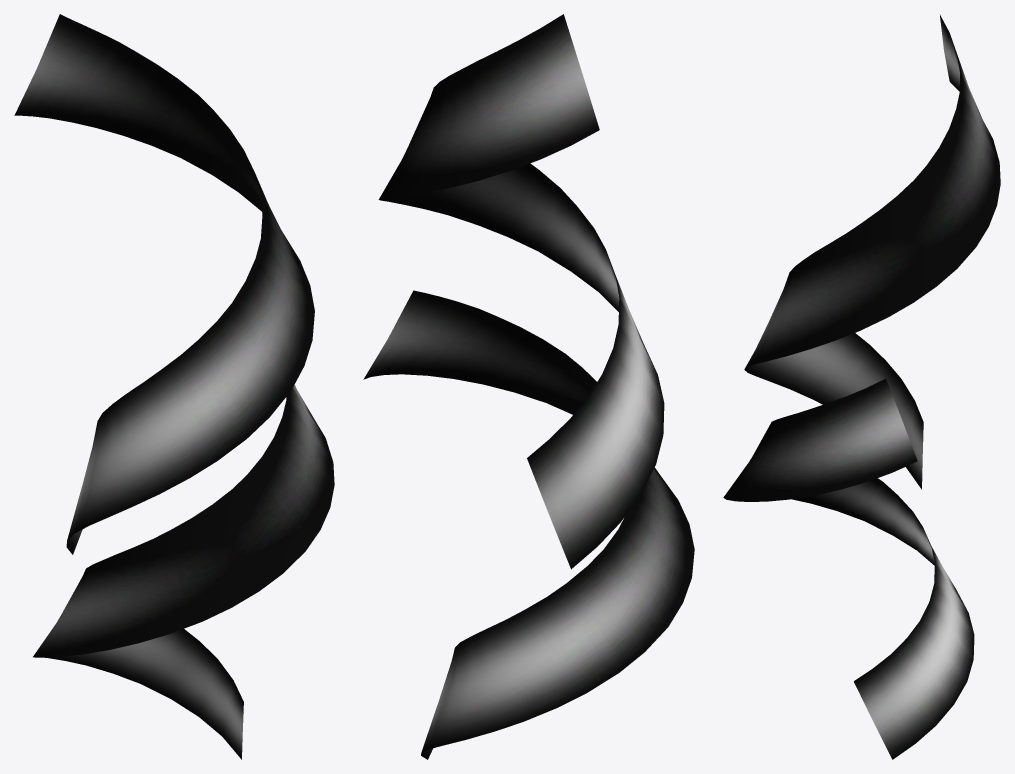
File: vfx_kurp_1035.dae
3 views of the same model, side by side, from view 1: azimuth 30°, elevation 25°; view 2: azimuth 150°, elevation 25°; view 3: azimuth 270°, elevation 25° (orthographic). The views are drawn at different scales.
Parts seen in each view (by area): view 1: vfx_kurp_1035; view 2: vfx_kurp_1035; view 3: vfx_kurp_1035.
Boxes of the visible parts, x1=… form: vfx_kurp_1035: x1=14, y1=14, x2=334, y2=759; vfx_kurp_1035: x1=363, y1=14, x2=694, y2=759; vfx_kurp_1035: x1=723, y1=15, x2=1000, y2=759.
Size of the model in its own units: 5.21 by 5.26 by 14.19.
1 material, 1 textured.
